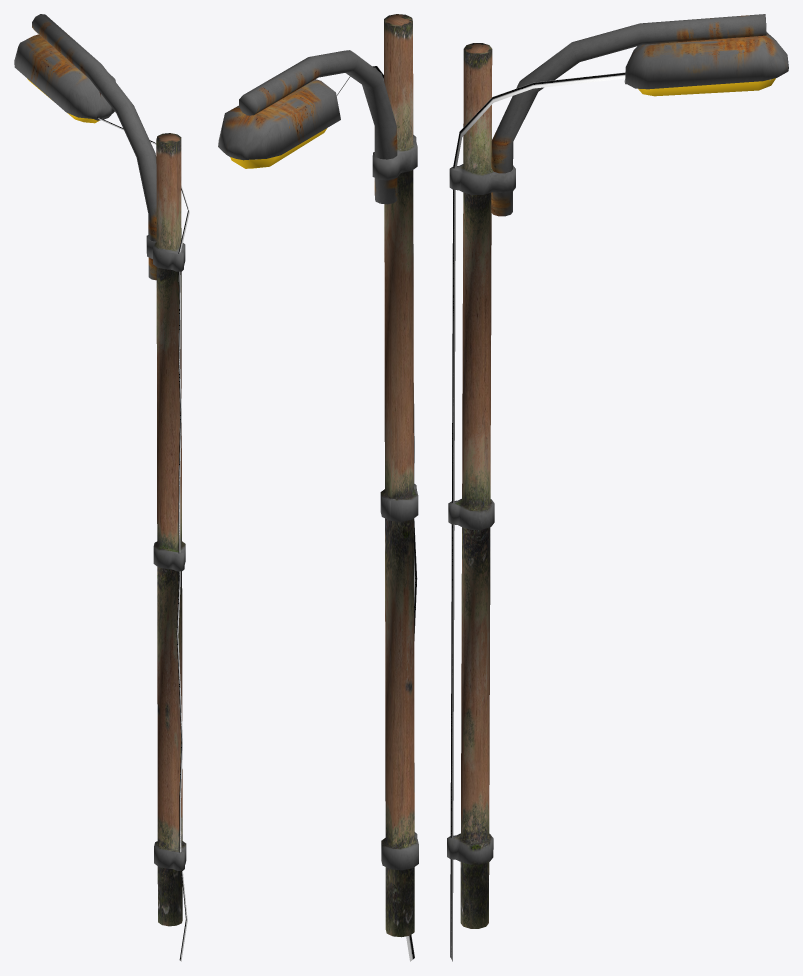
Rendered from pole.obj.
3 renders of one model, left to right at view 1: azimuth 30°, elevation 25°; view 2: azimuth 150°, elevation 25°; view 3: azimuth 270°, elevation 25°, orthographic. The views are drawn at different scales.
Parts seen in each view (by area): view 1: Cylinder_Cylinder.001; view 2: Cylinder_Cylinder.001; view 3: Cylinder_Cylinder.001.
Boxes of the visible parts, x1,y1,x2,y2 form: Cylinder_Cylinder.001: (14, 14, 189, 961); Cylinder_Cylinder.001: (218, 14, 418, 961); Cylinder_Cylinder.001: (447, 14, 788, 961).
Size of the model in its own units: 12.42 by 188 by 61.6.
Materials: 1 (1 with a texture image).
